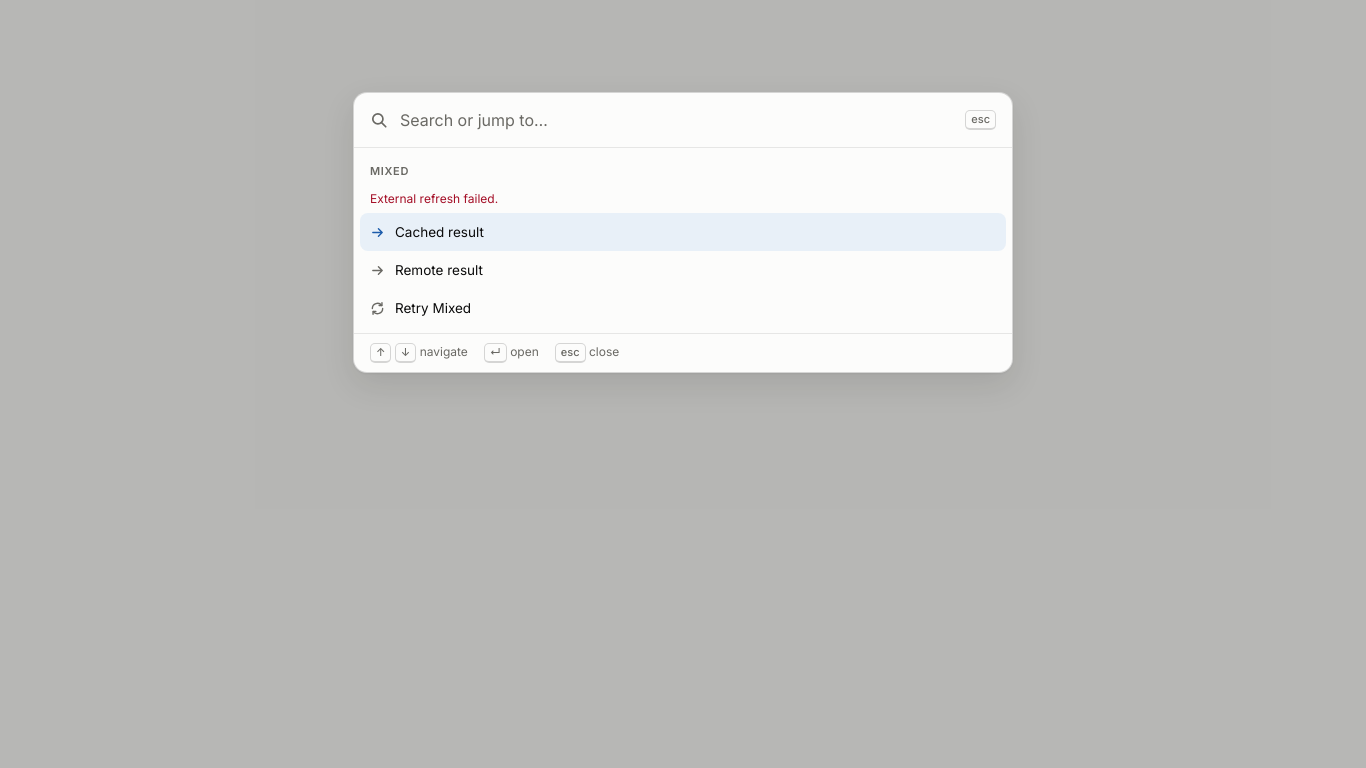
Test: palette search and feedback › retries the failed operations of a mixed source (true external, false remote)
This screenshot has width=1366, height=768.
What coordinates should you click on to do the following:
click the option "Retry Mixed"
I would click on:
 (421, 308)
Its box is x1=370 y1=300 x2=471 y2=316.
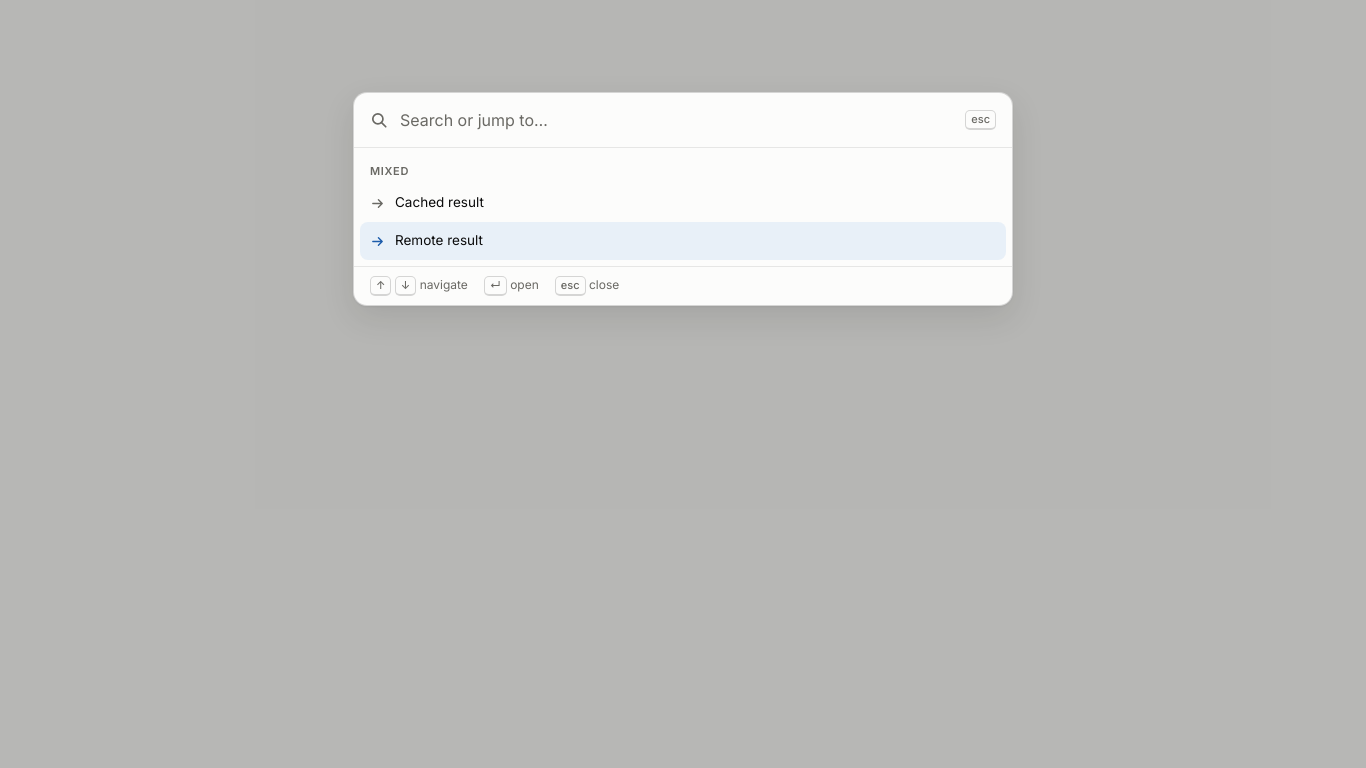
Expected: the option "Cached result" is shown, x1=370 y1=194 x2=484 y2=211
Expected: the option "Retry Mixed" is gone
